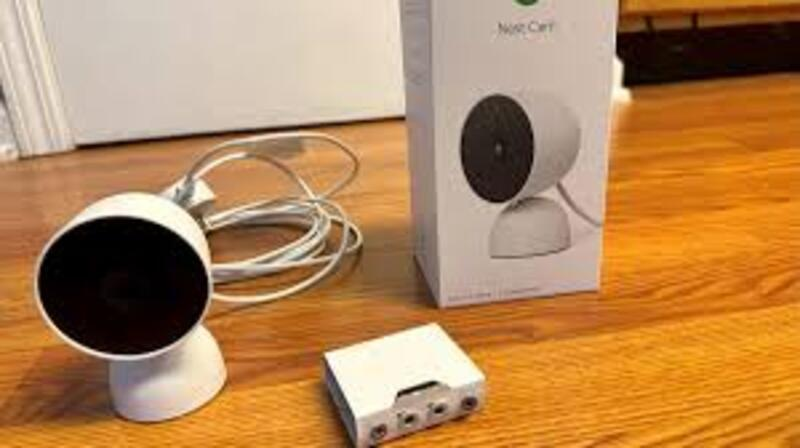nest: (27, 180, 208, 377)
